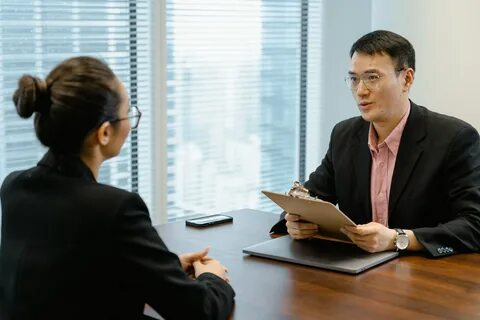awake: (1, 55, 236, 319), (283, 29, 480, 257)
